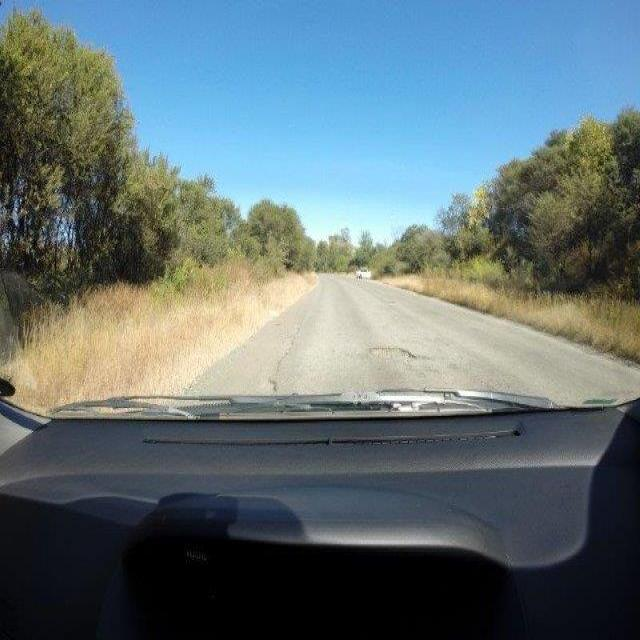jalan retak: (268, 322, 304, 391)
lubang: (366, 340, 432, 364)
